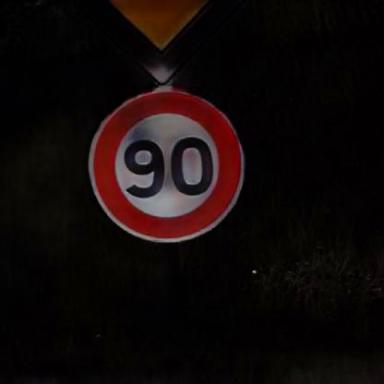Speed_limit_90: (93, 96, 243, 236)
